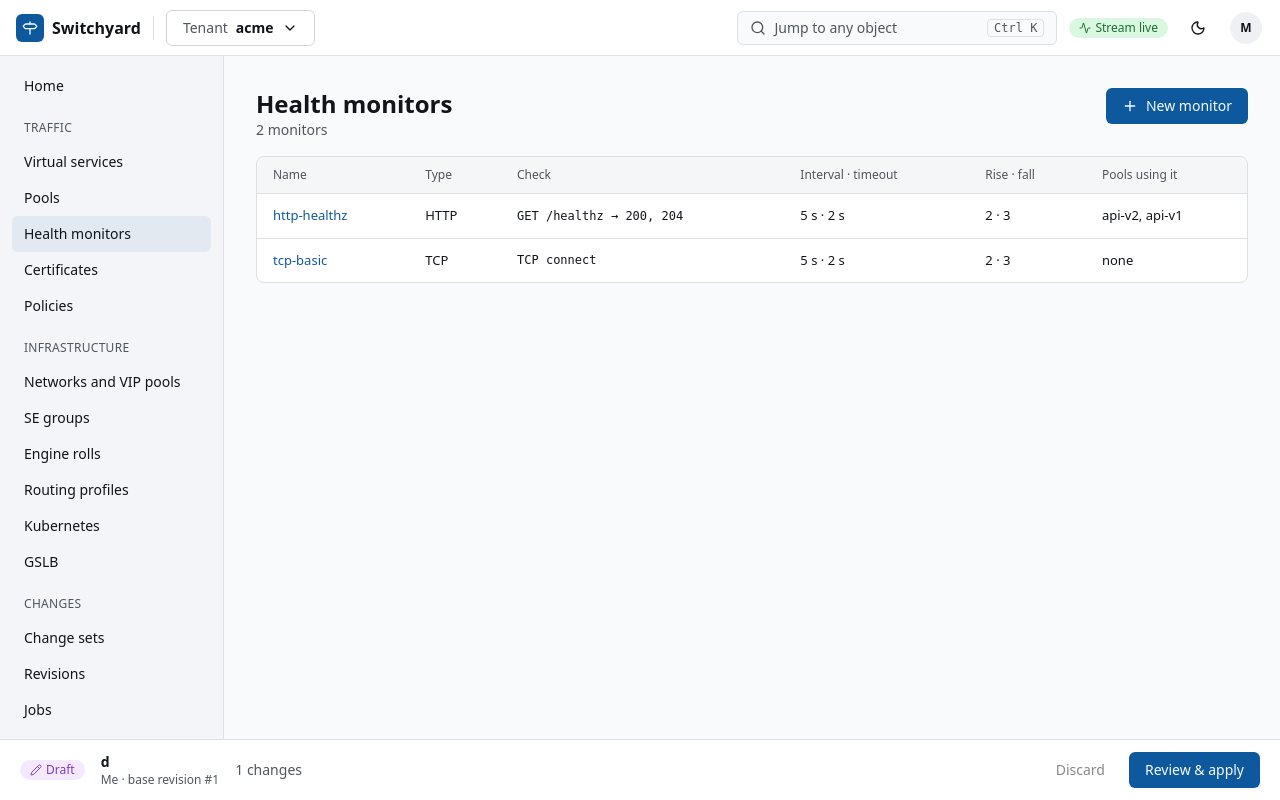
Test: health monitors › test box posts the chosen member and shows the result
Click the button "http-healthz". click: {"x": 310, "y": 216}
box: [273,206,348,226]
(page scrolled)
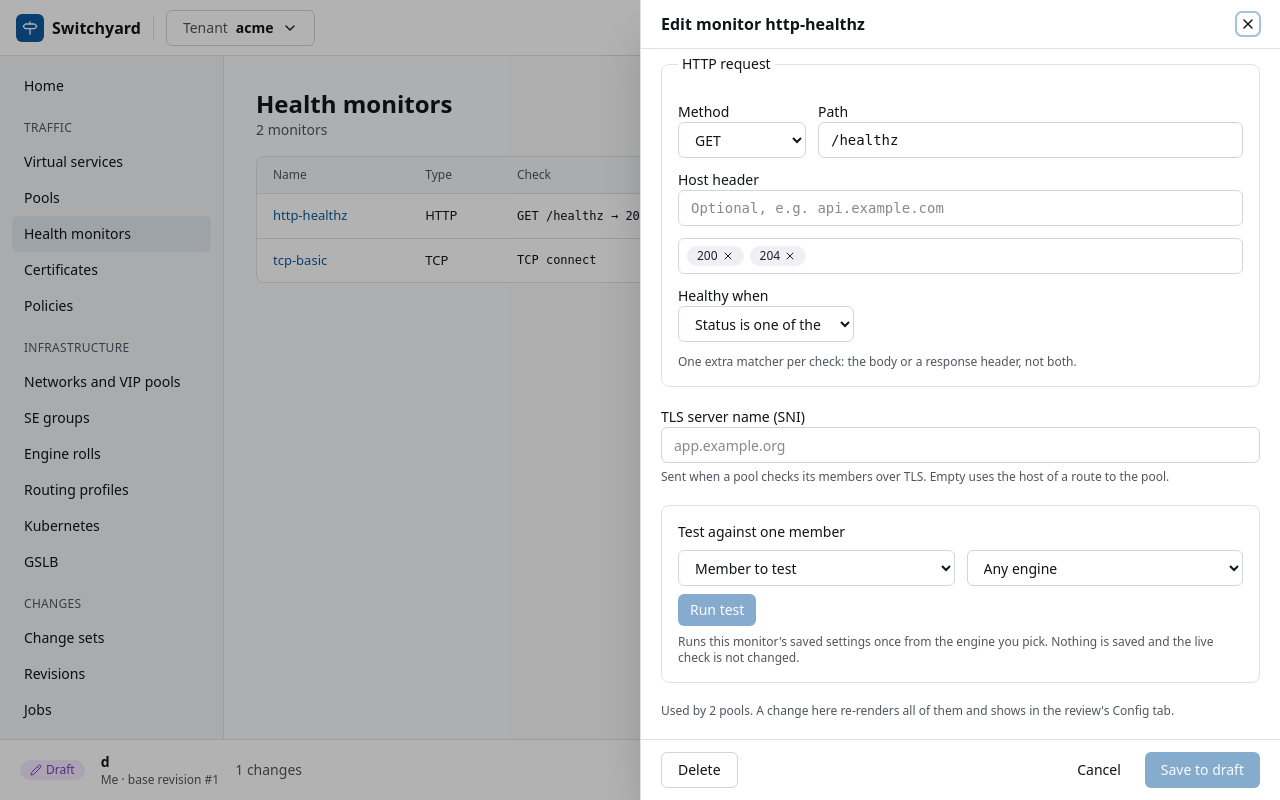
Select "10.0.0.1 · 10.0.0.1:8080 (api-v2)" in the dropdown named "Member to test". click: {"x": 816, "y": 568}
box: [678,550,954,586]
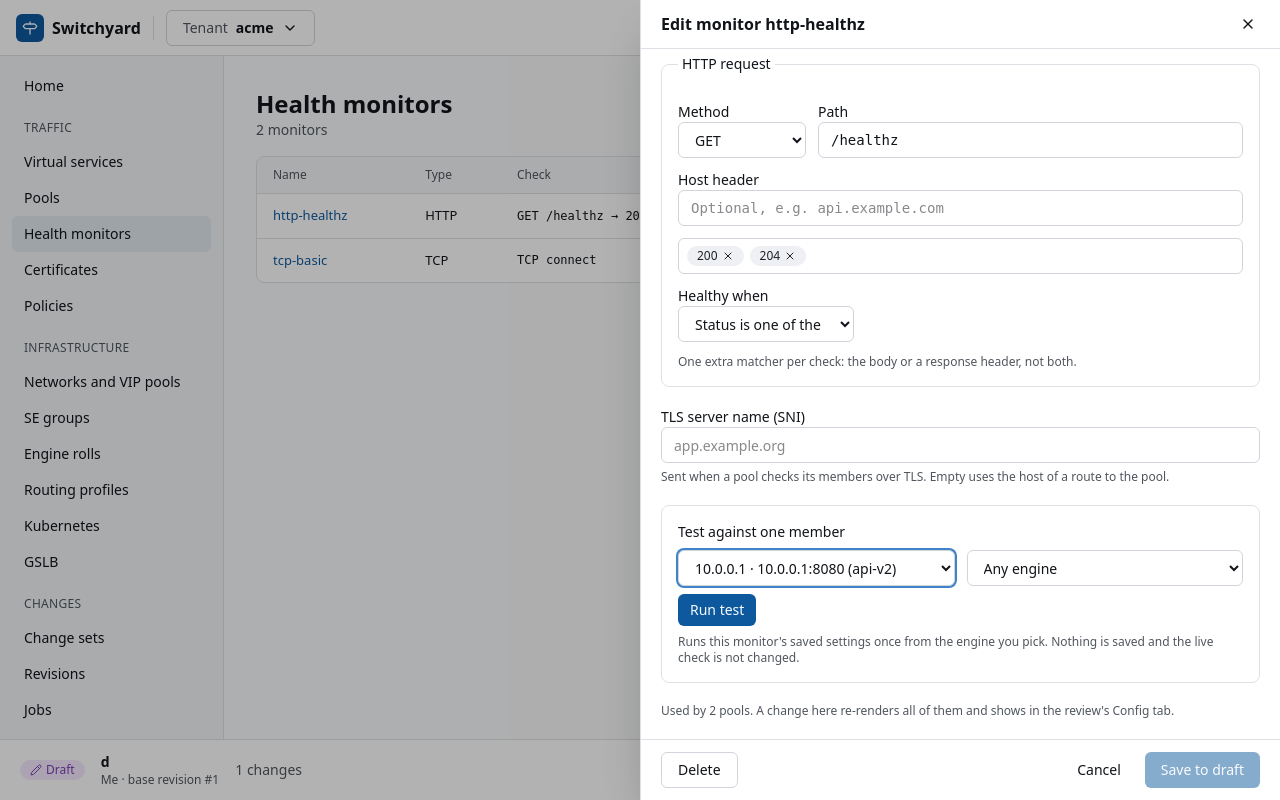
Select "se-a-01" in the dropdown named "From engine". click: {"x": 1105, "y": 568}
box: [966,550,1243,586]
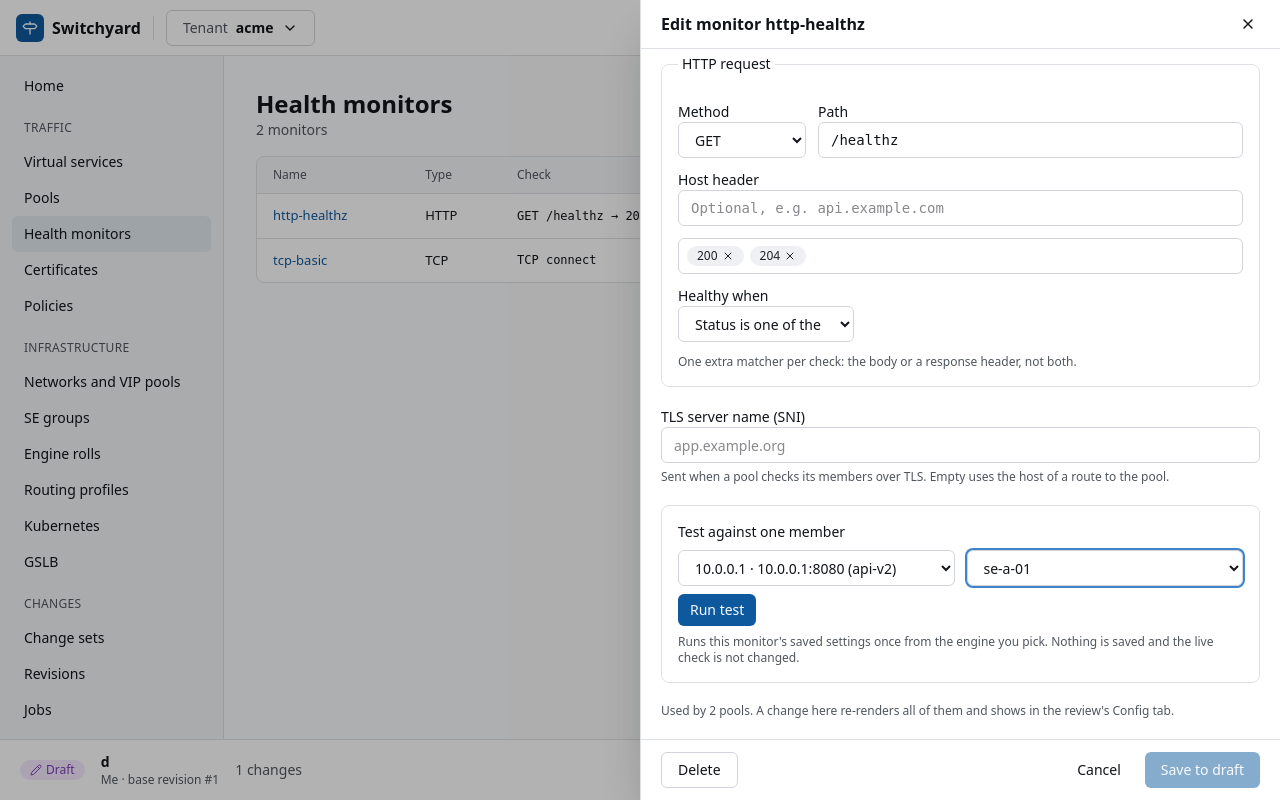
Click the button "Run test". click: {"x": 717, "y": 610}
box: [678,594,756,626]
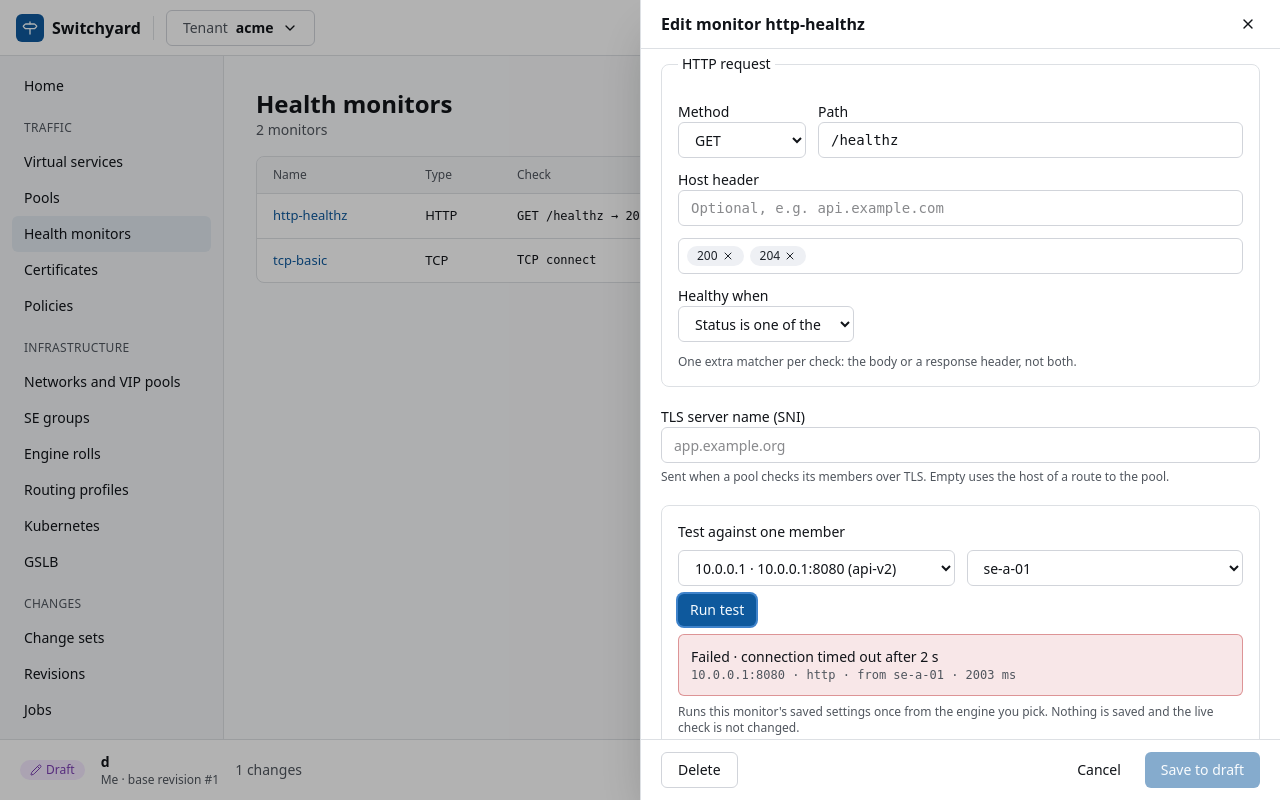
expect the text "Failed · connection timed out after 2 s" is shown: met, box [691,647,939,666]
